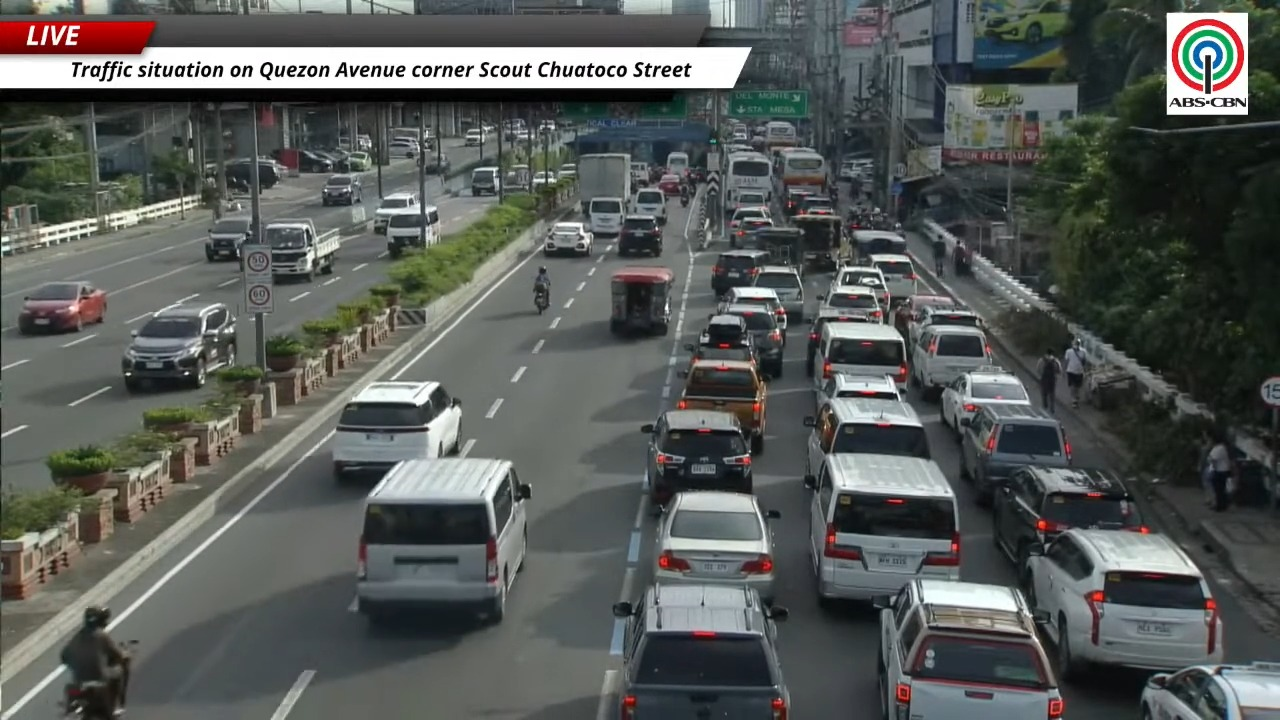bus: (726, 152, 773, 201), (781, 151, 827, 187), (765, 121, 797, 149)
car: (1021, 529, 1222, 679), (356, 458, 531, 624), (875, 579, 1064, 719), (804, 451, 961, 608), (612, 584, 790, 719), (992, 465, 1149, 568), (654, 490, 780, 603), (331, 382, 461, 480), (959, 405, 1071, 504), (641, 410, 752, 508), (122, 301, 236, 391), (803, 398, 930, 474), (1140, 662, 1279, 719), (940, 366, 1030, 434), (911, 325, 992, 399), (17, 281, 106, 334), (721, 304, 784, 377), (806, 308, 871, 376), (717, 287, 787, 343), (983, 0, 1067, 46), (754, 265, 805, 328), (815, 373, 902, 409), (907, 304, 983, 345), (893, 295, 955, 340), (711, 249, 770, 295), (684, 335, 757, 369), (868, 254, 917, 304), (831, 265, 889, 307), (817, 286, 884, 322), (373, 192, 418, 233), (617, 215, 662, 256), (543, 222, 593, 255), (699, 314, 750, 344), (730, 217, 773, 247), (321, 174, 361, 205), (633, 188, 666, 224), (470, 166, 503, 196), (729, 206, 770, 230), (727, 190, 767, 212), (297, 150, 333, 172), (783, 189, 812, 216), (798, 195, 835, 214), (388, 139, 419, 158), (423, 153, 451, 174), (657, 173, 681, 195), (347, 151, 372, 171), (531, 171, 556, 189), (838, 161, 860, 181), (464, 128, 485, 146), (556, 163, 576, 178)
motorcycle: (61, 681, 119, 719), (63, 682, 114, 719), (534, 287, 548, 314), (680, 193, 690, 208)
truck: (677, 360, 766, 453), (262, 219, 340, 281), (576, 154, 632, 214), (205, 216, 252, 261)
